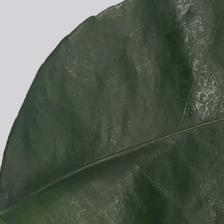healthy: (5, 2, 223, 224)
